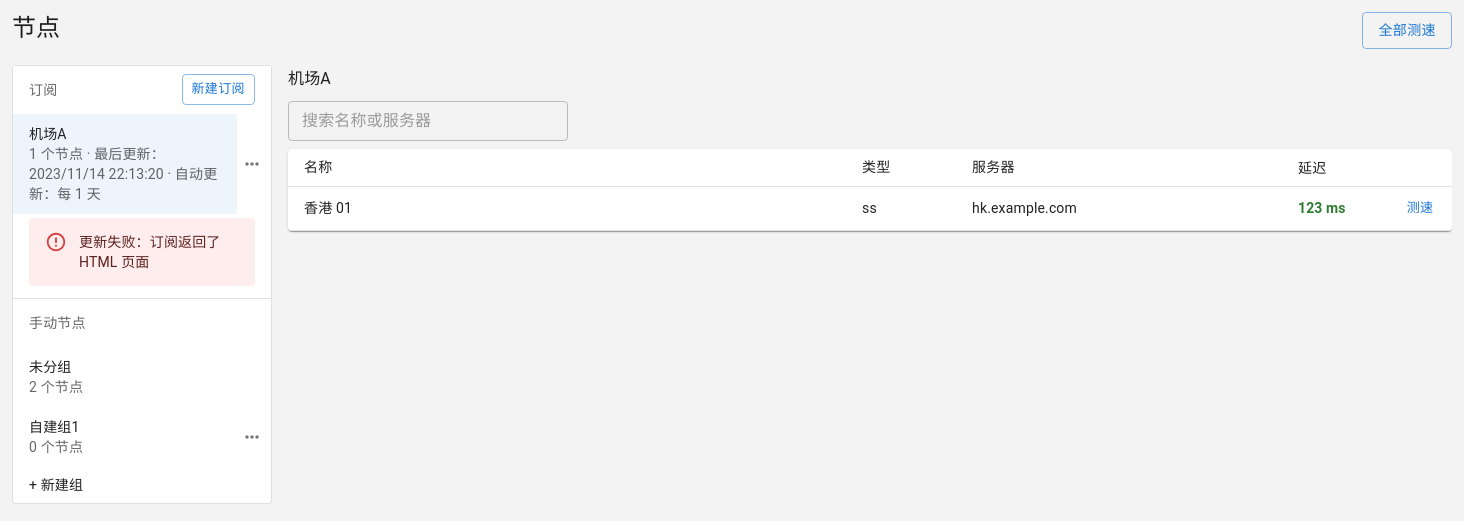
it: Nodes table › searches and reports no match
Type "不存在" into the field named "搜索节点" at (428, 120), box x1=288 y1=100 x2=568 y2=140
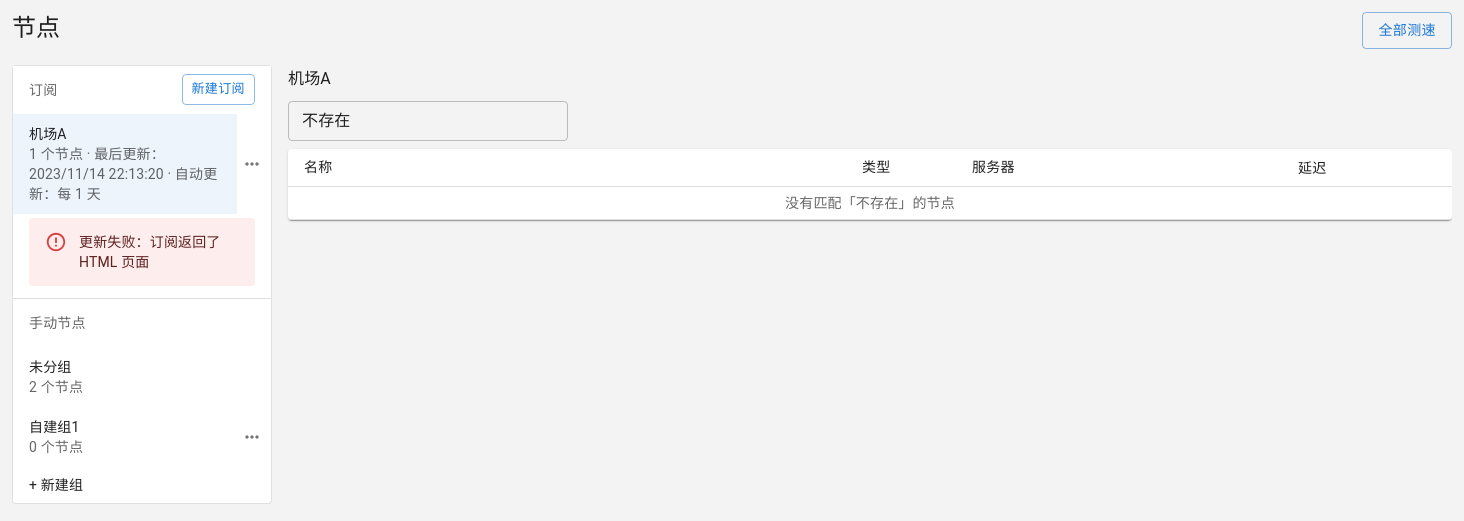
Now the text "没有匹配「不存在」的节点" is shown, box x1=288 y1=186 x2=1452 y2=219
Replace the text in the field named "搜索节点" with "香港" at (428, 120), box x1=288 y1=100 x2=568 y2=140
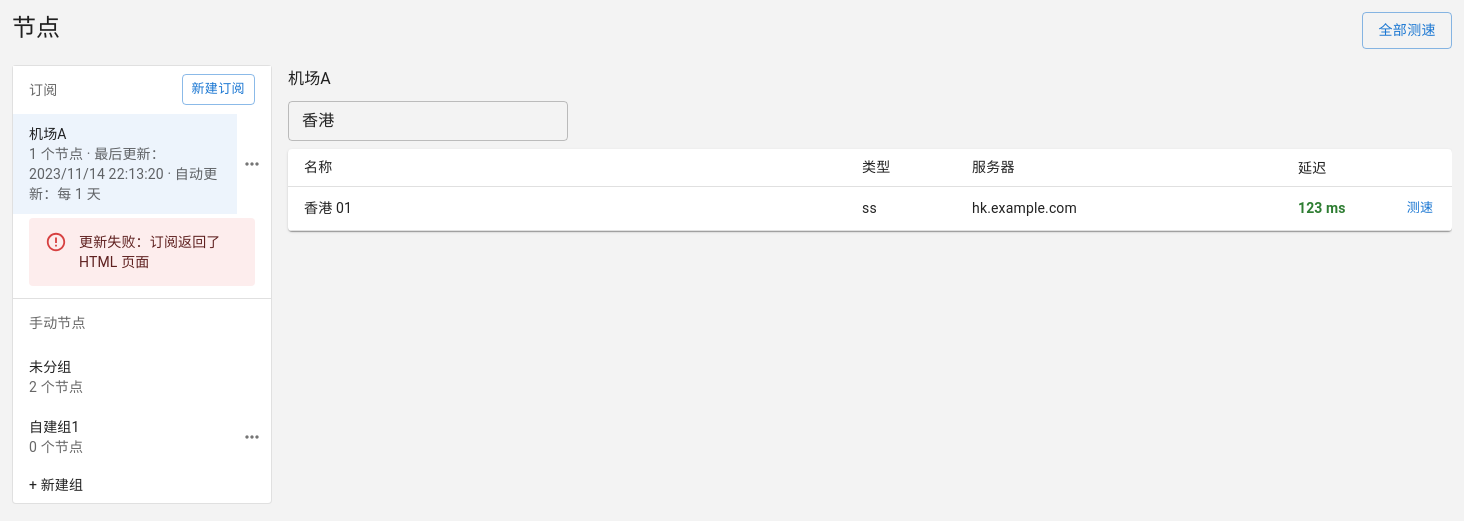
Now the text "香港 01" is shown, box x1=288 y1=186 x2=846 y2=230
